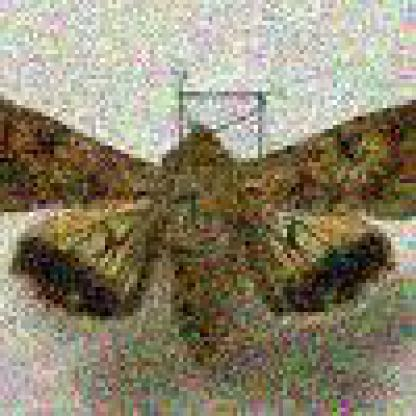helicoverpa: (0, 96, 412, 369)
